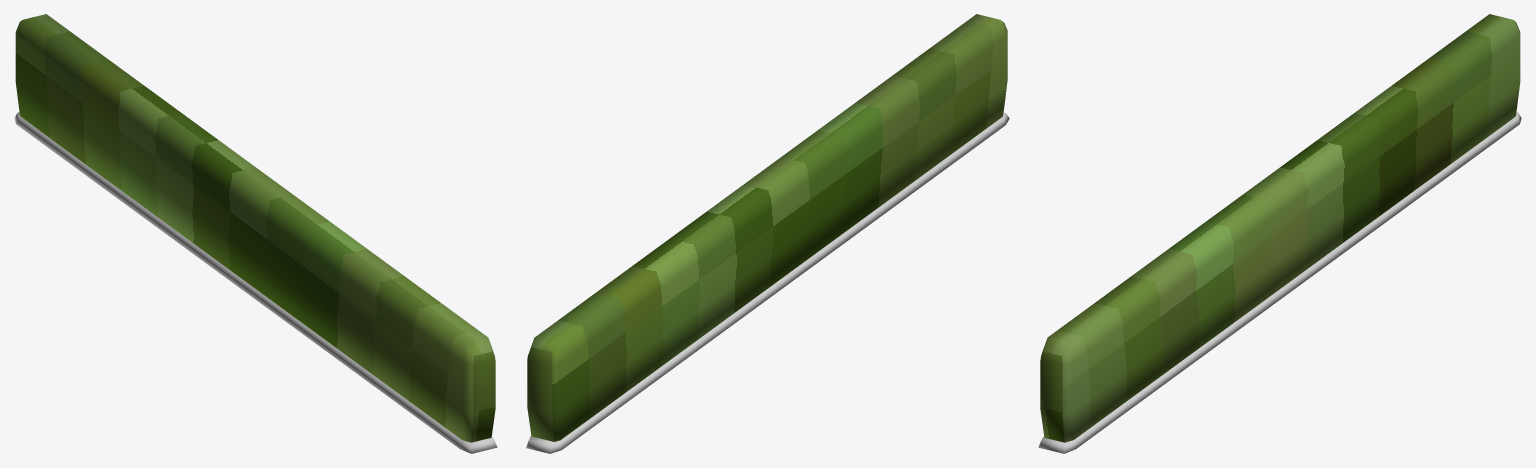
File: JpHouseJ_Hedge01c.fbx
3 views of the same model, side by side, from view 1: azimuth 30°, elevation 25°; view 2: azimuth 150°, elevation 25°; view 3: azimuth 330°, elevation 25° (orthographic).
Parts seen in each view (by area): view 1: JpHouseJ_Hedge01c; view 2: JpHouseJ_Hedge01c; view 3: JpHouseJ_Hedge01c.
Part boxes in pixels (x1,y1,x2,y2): JpHouseJ_Hedge01c: [14, 14, 497, 453]; JpHouseJ_Hedge01c: [526, 14, 1009, 453]; JpHouseJ_Hedge01c: [1038, 14, 1521, 453].
Size of the model in its own units: 0.5429 by 1.61 by 12.79.
